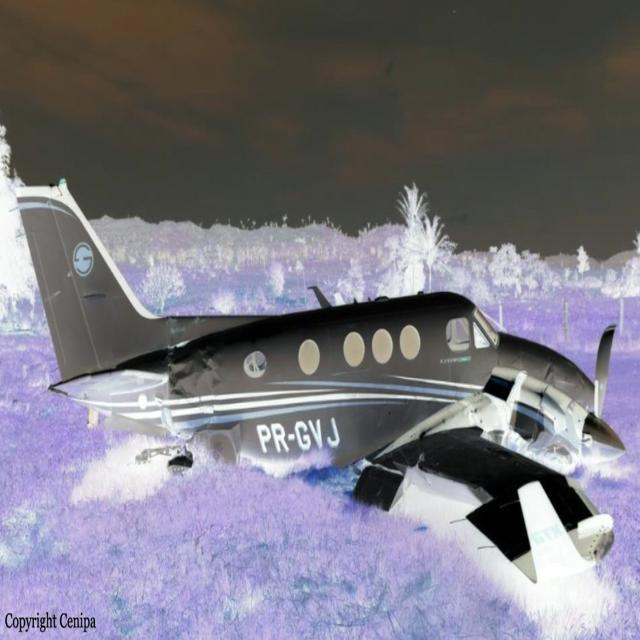dent: (167, 351, 225, 416)
